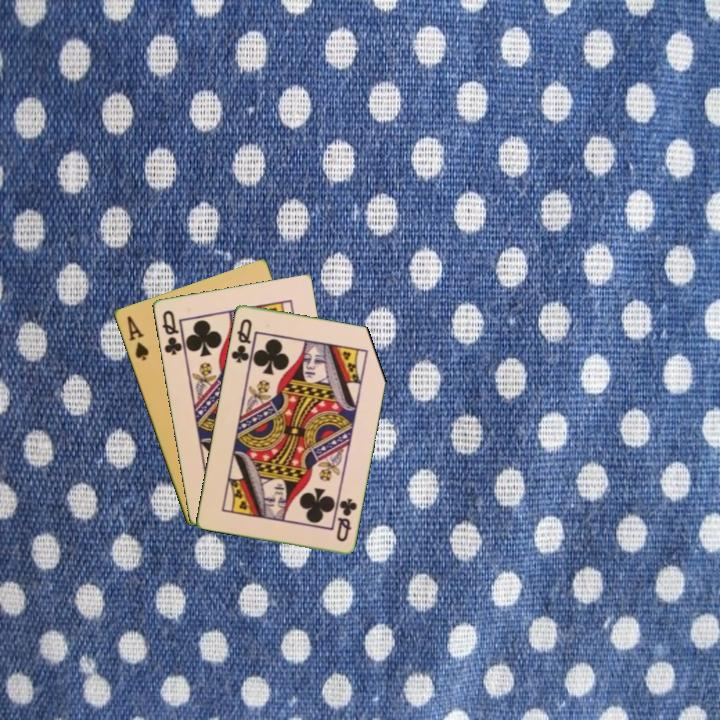As: (123, 312, 151, 363)
Qc: (158, 306, 187, 358), (227, 315, 255, 366), (333, 494, 360, 545)
